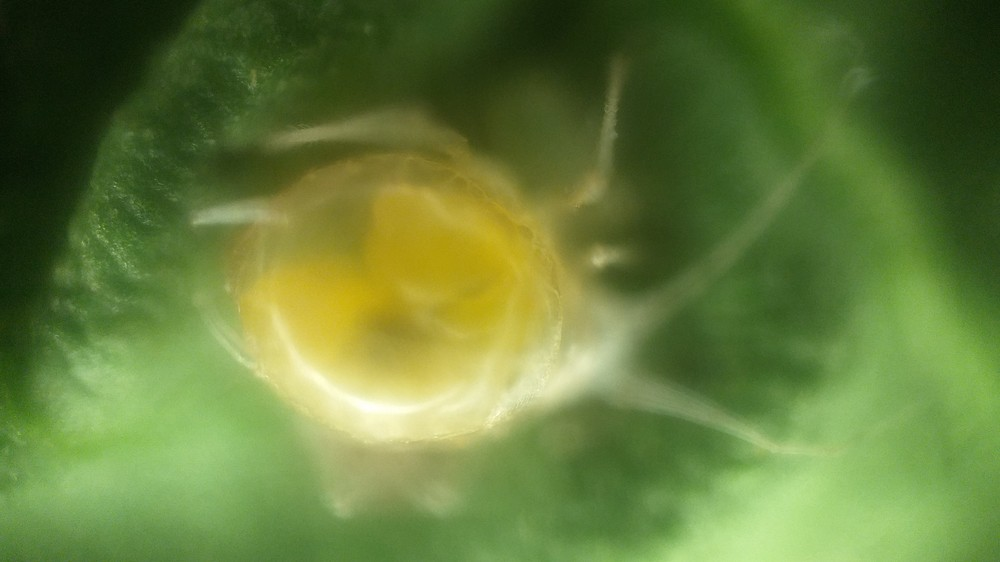Pulgon: (157, 33, 901, 537)
